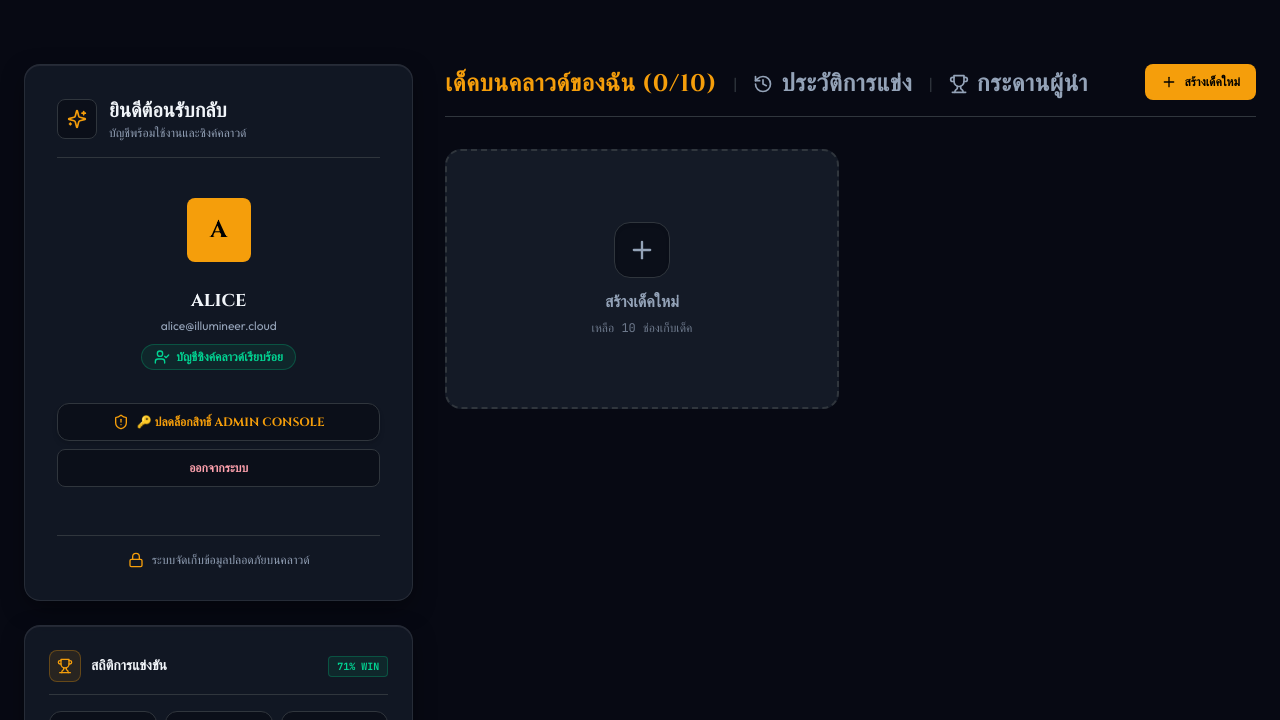
Test: UserDashboard Player Stats & Match History QA Suite (T04) › TC-DASH-03: Displays empty state when user has no match history yet
Click the button with test id "tab-matches": coordinates (833, 84) [754,68,912,100]
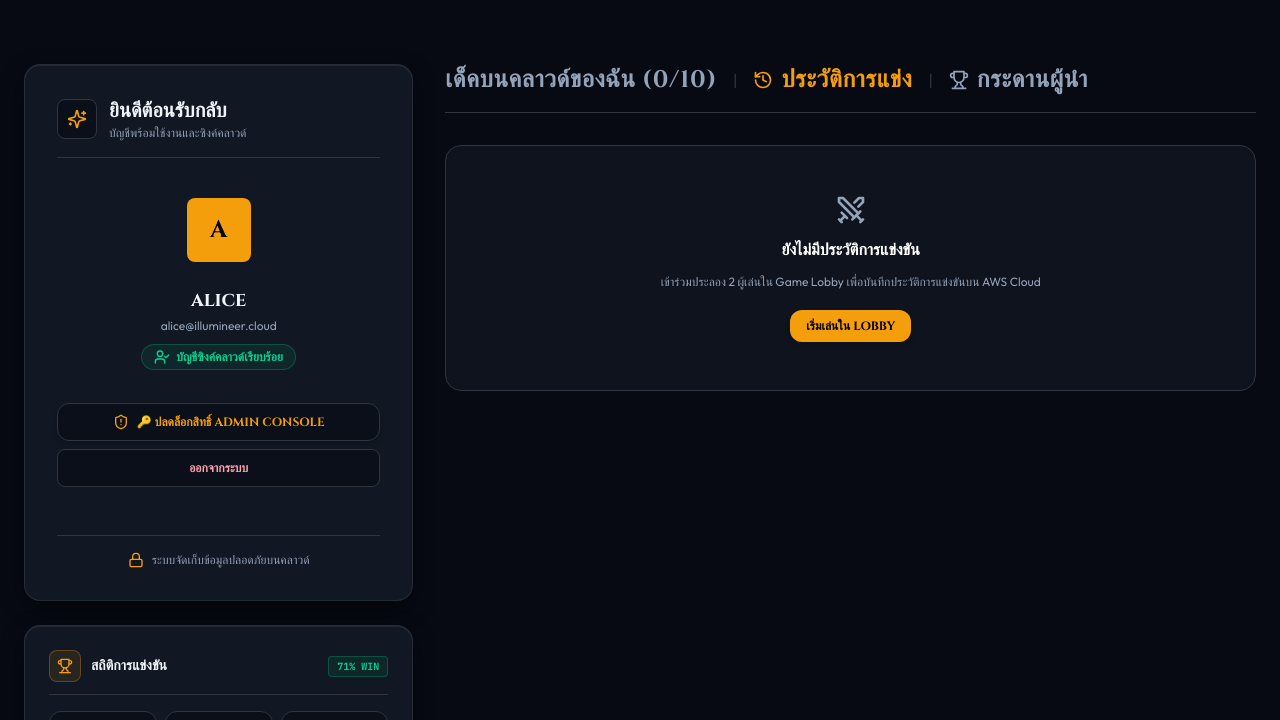
Expected: the element with test id "match-history-empty" is shown, [445,145,1256,391]
